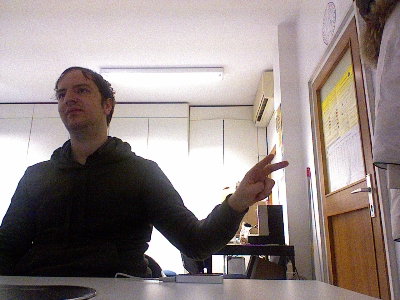剪刀: (235, 152, 289, 207)
